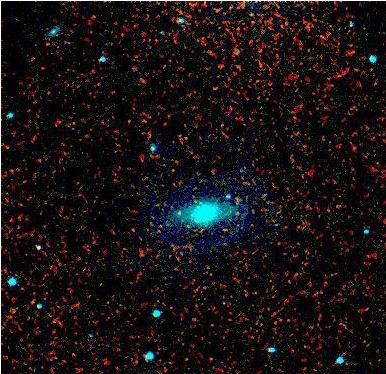star: (163, 197, 193, 227)
